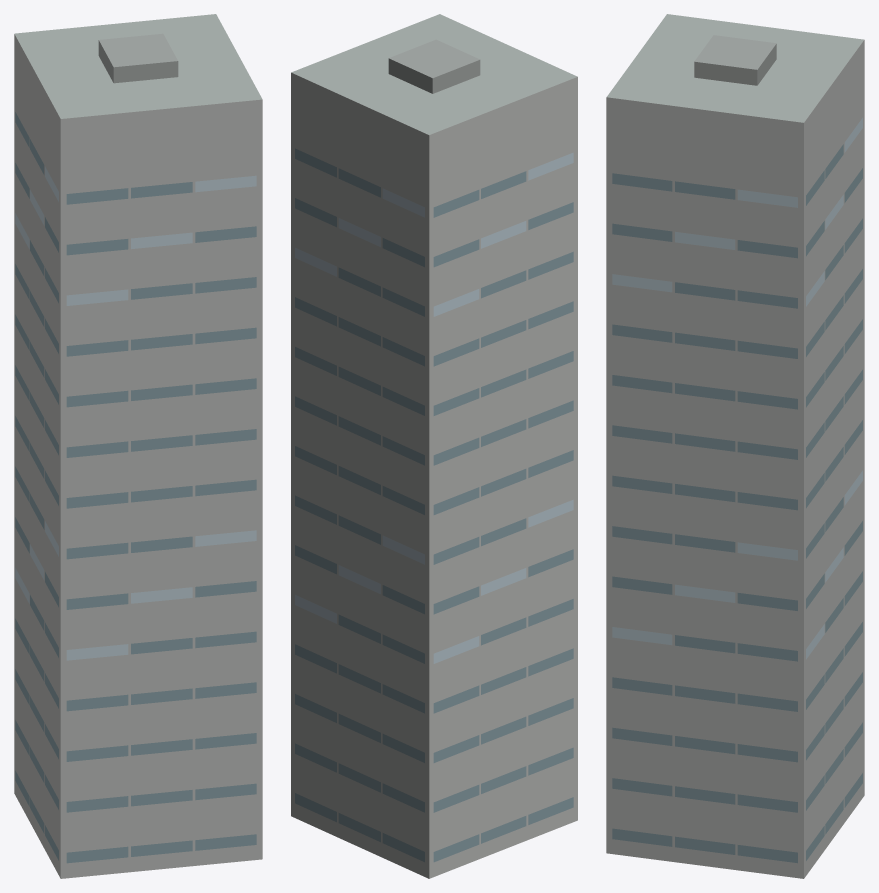
File: fallback-olympic-park-foreon-103.glb
3 views of the same model, side by side, from view 1: azimuth 30°, elevation 25°; view 2: azimuth 150°, elevation 25°; view 3: azimuth 270°, elevation 25° (orthographic). The views are drawn at different scales.
Visible parts, largest first — view 1: fallback-olympic-park-foreon-103; view 2: fallback-olympic-park-foreon-103; view 3: fallback-olympic-park-foreon-103.
Part boxes in pixels (left/top/right/bottom): fallback-olympic-park-foreon-103: left=14, top=14, right=262, bottom=878; fallback-olympic-park-foreon-103: left=291, top=14, right=577, bottom=878; fallback-olympic-park-foreon-103: left=606, top=14, right=864, bottom=878.
Bounding box in the file's own units: 35.09 × 116 × 35.13.
